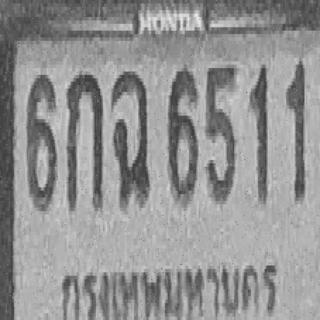A01: (66, 70, 103, 209)
A09: (112, 68, 150, 204)
N01: (285, 60, 305, 199), (250, 63, 268, 202)
N05: (206, 63, 235, 202)
N06: (27, 72, 56, 211), (168, 66, 197, 202)
P04: (57, 252, 281, 320)
